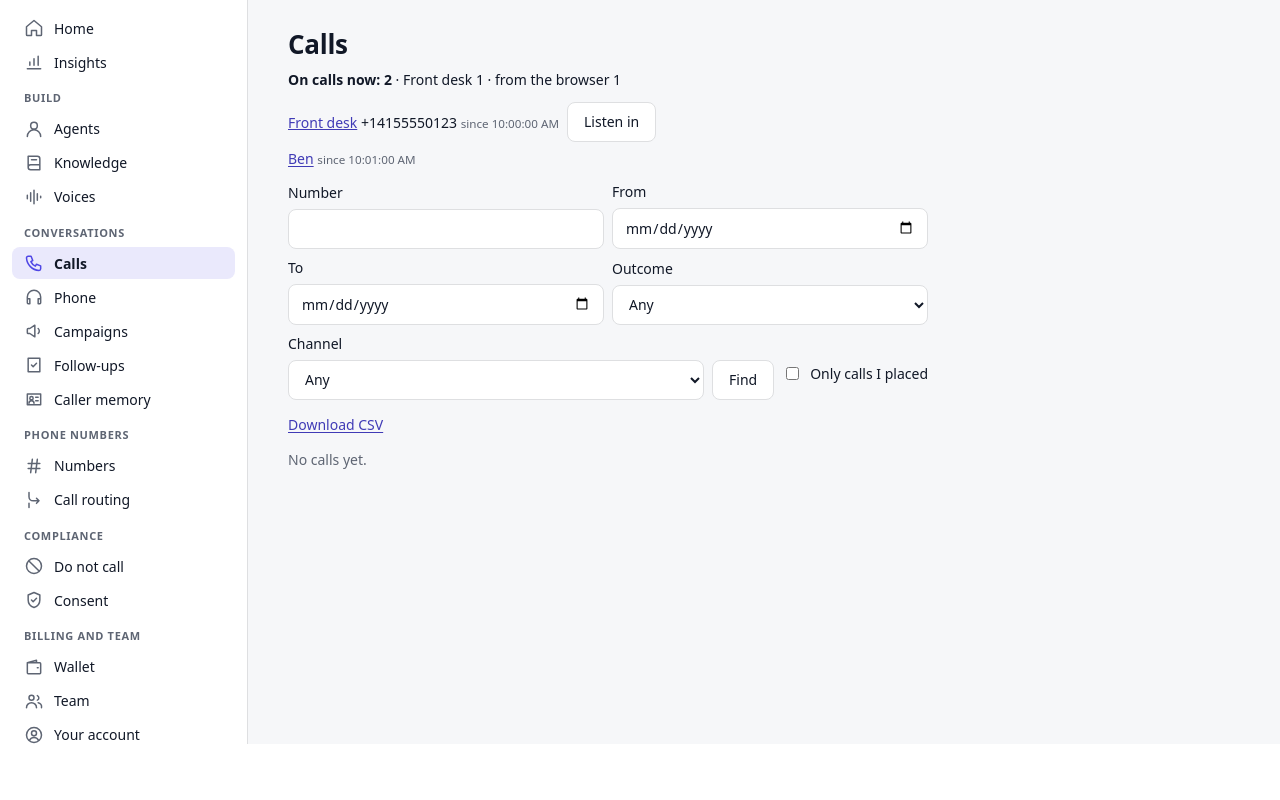
Test: listening in › stops when asked, and says so when the socket closes for any other reason
Click the button "Listen in" at (612, 122), box x1=567 y1=102 x2=656 y2=142
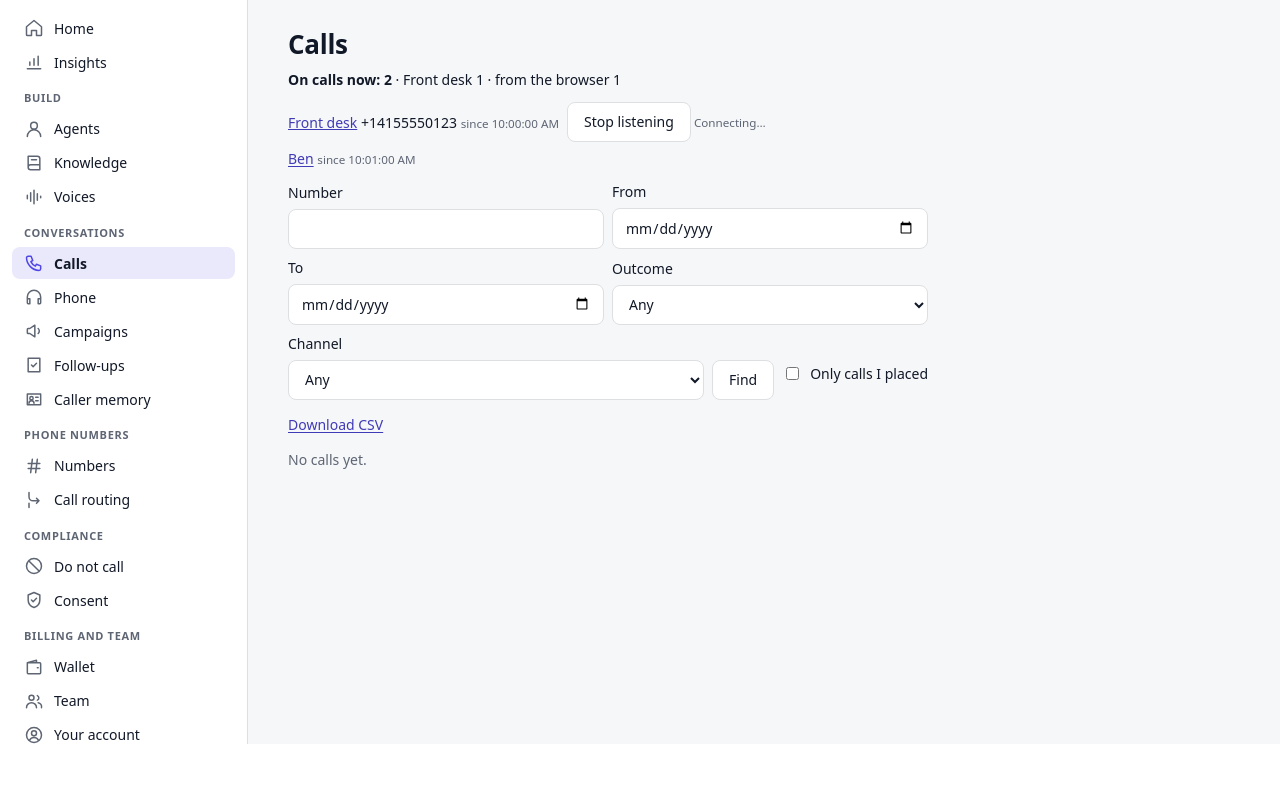
Click the button "Stop listening" at (629, 122), box x1=567 y1=102 x2=691 y2=142
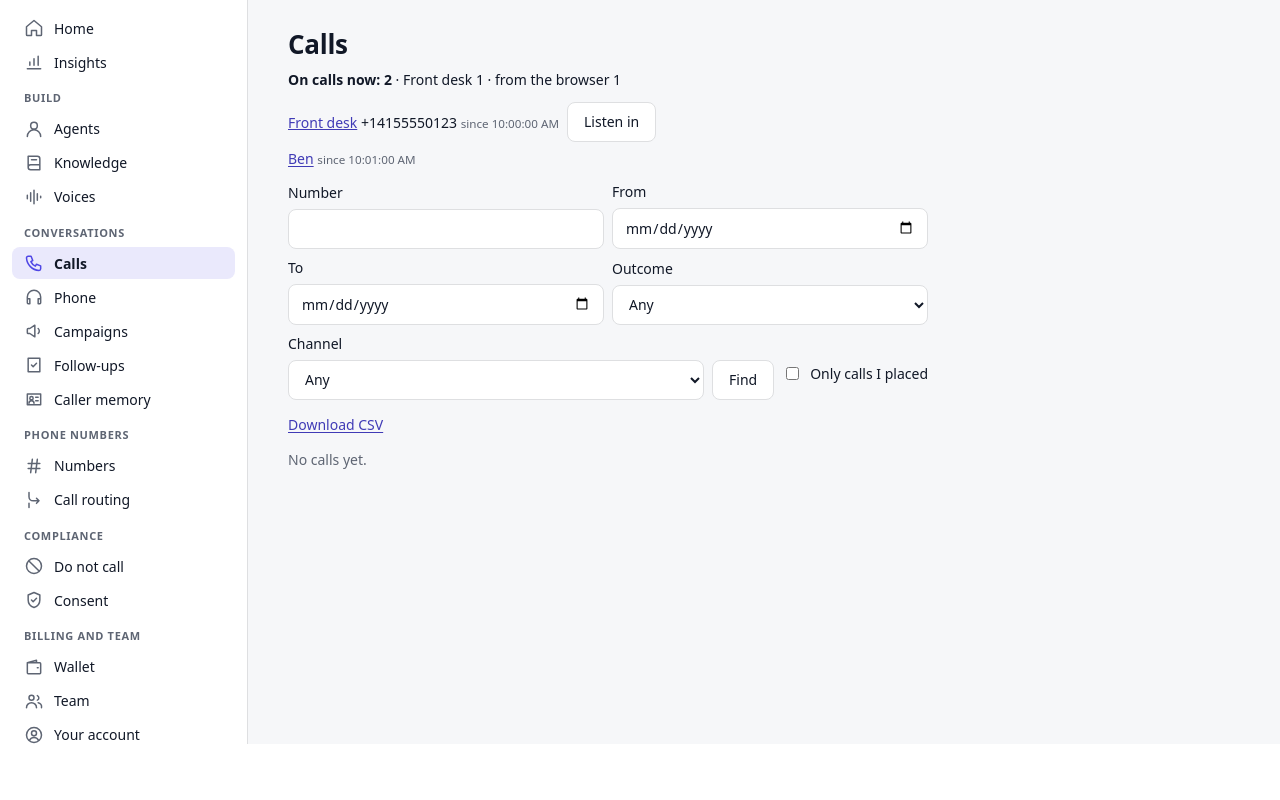
expect the button "Listen in" is shown: met
Click the button "Listen in" at (612, 122), box x1=567 y1=102 x2=656 y2=142
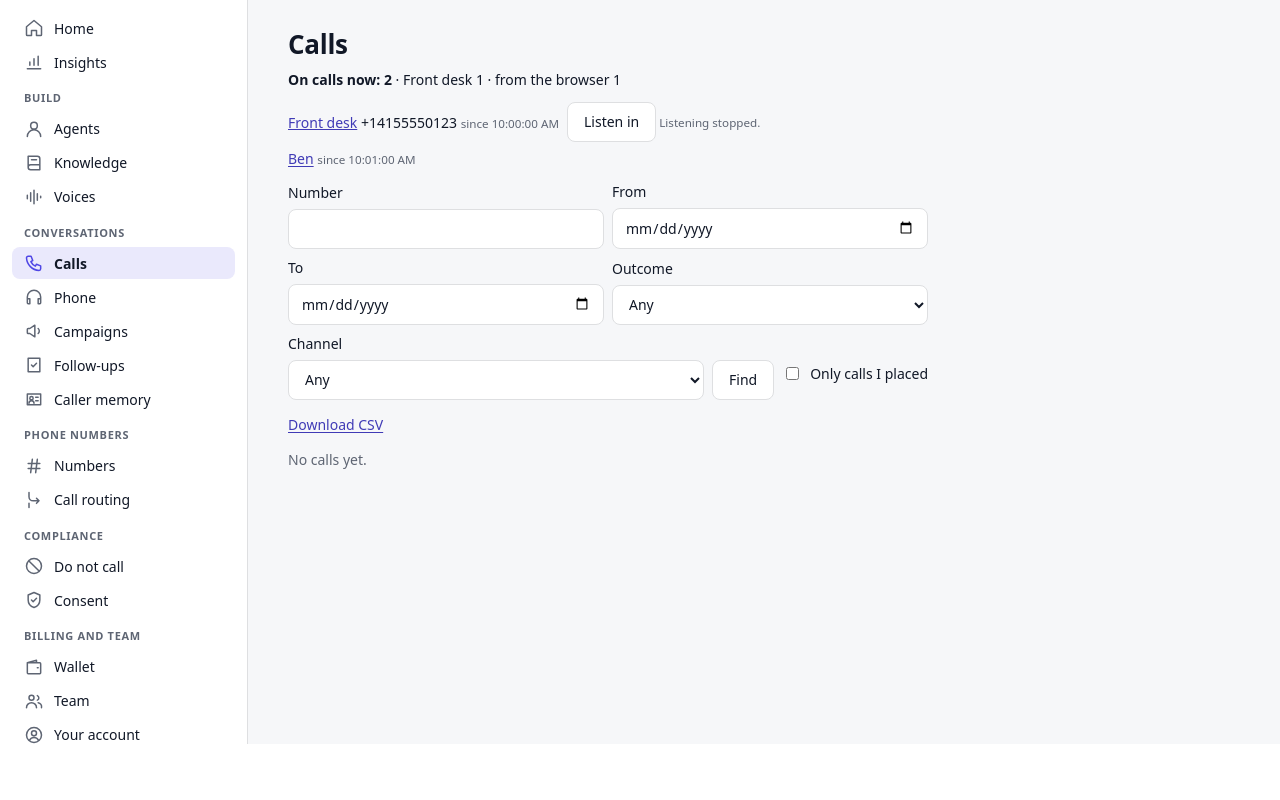
expect the text "Listening stopped." is shown: met, box x1=656 y1=115 x2=760 y2=130
